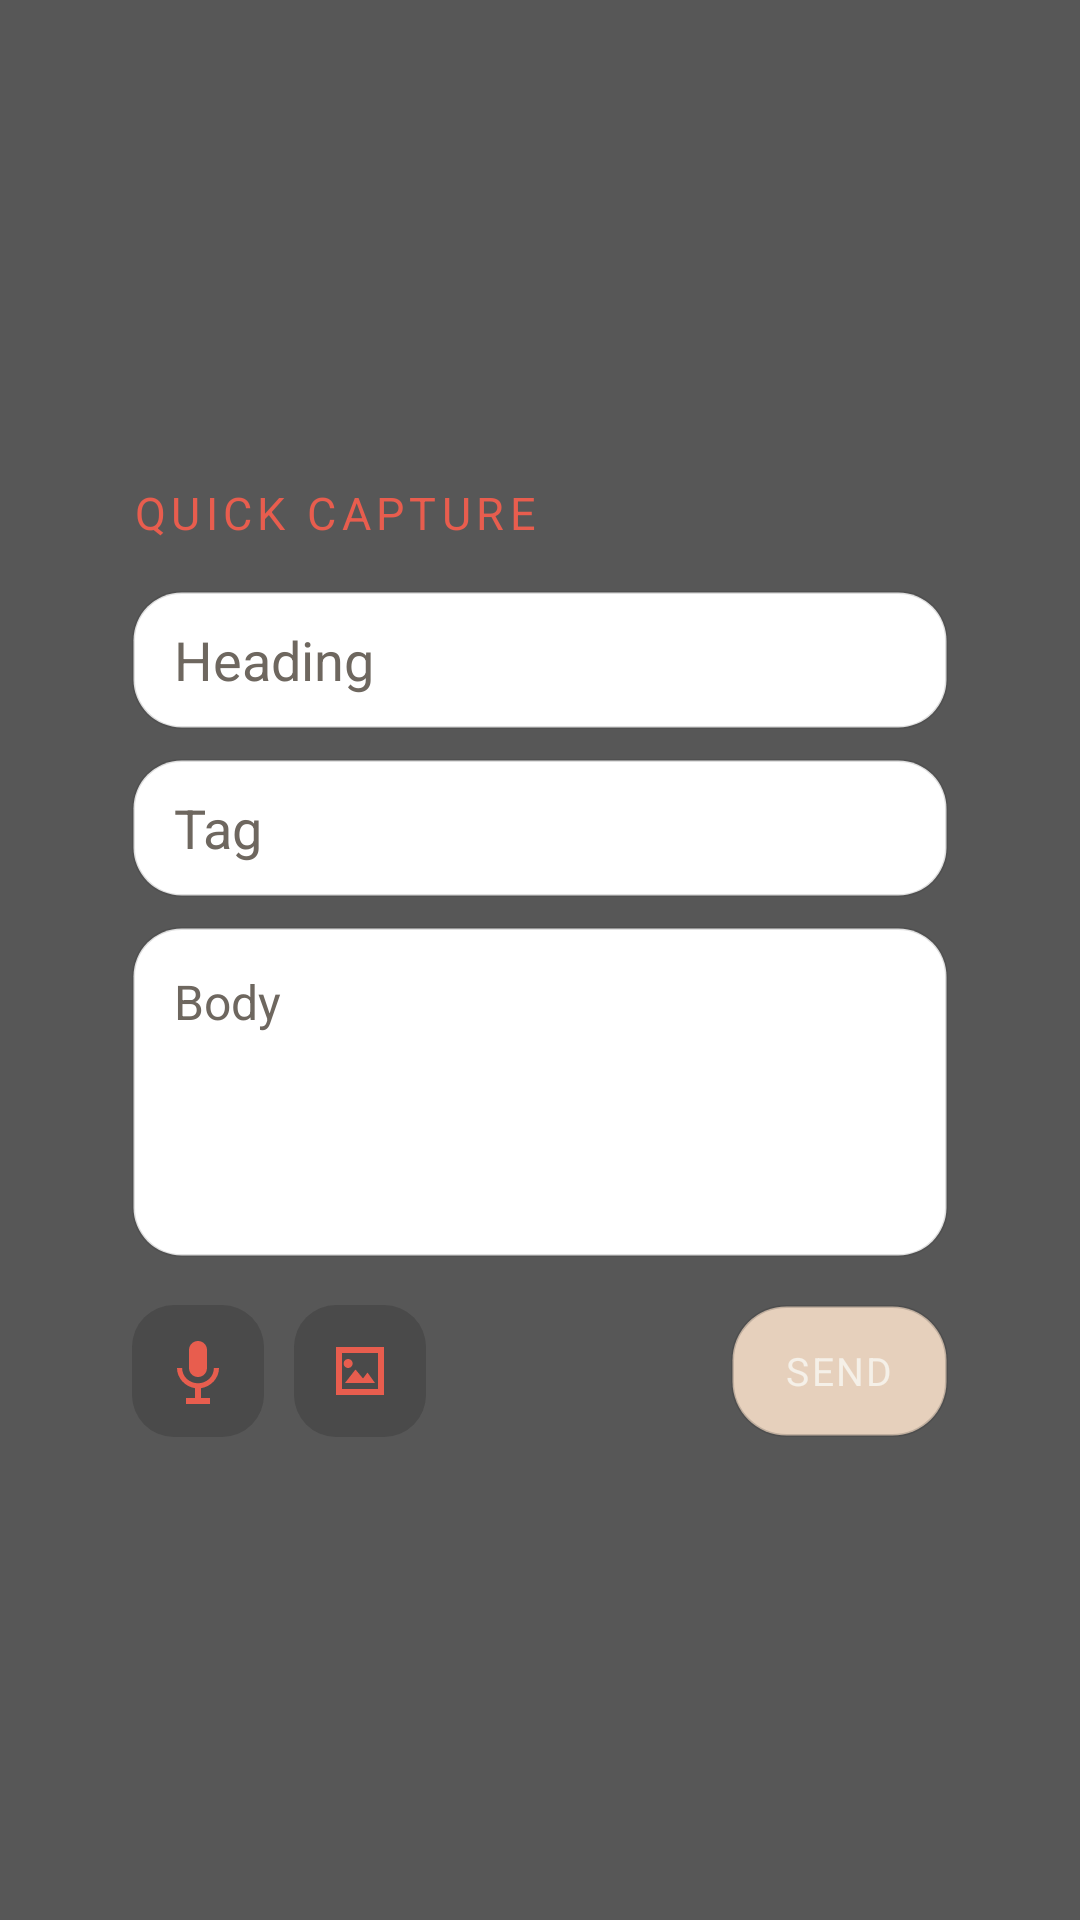

Screen size 1080px×1920px. Icon name, then its box in pixels as box(x1, y1, x2, y2):
Choose photo from albums: box(336, 1347, 384, 1395)
Voice input: box(132, 1305, 264, 1437)
